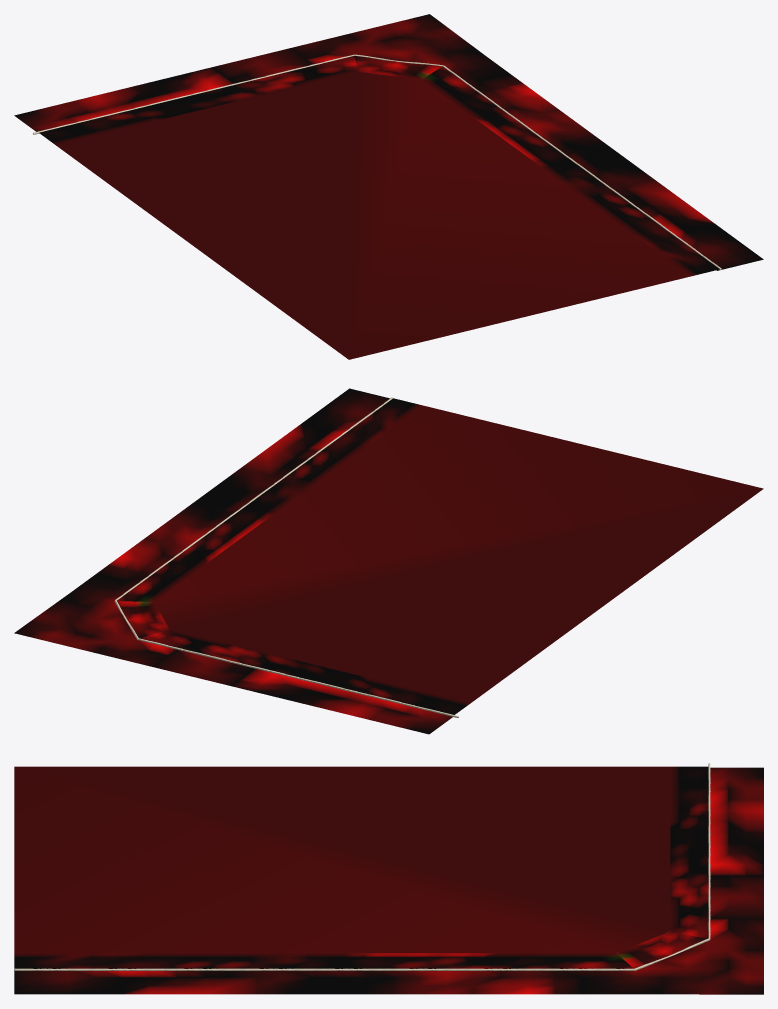
Rendered from Road_Snaps004.FBX.
3 views of the same model, one above another, from view 1: azimuth 30°, elevation 25°; view 2: azimuth 150°, elevation 25°; view 3: azimuth 270°, elevation 25° (orthographic). The views are drawn at different scales.
Visible parts, largest first — view 1: Geometry_Road_LOD00; view 2: Geometry_Road_LOD00; view 3: Geometry_Road_LOD00.
Part boxes in pixels (x1,y1,x2,y2): Geometry_Road_LOD00: [14, 14, 763, 359]; Geometry_Road_LOD00: [14, 388, 763, 734]; Geometry_Road_LOD00: [14, 763, 763, 994].
Size of what is drawn, in the model's own units: 4594 by 17.62 by 6334.
